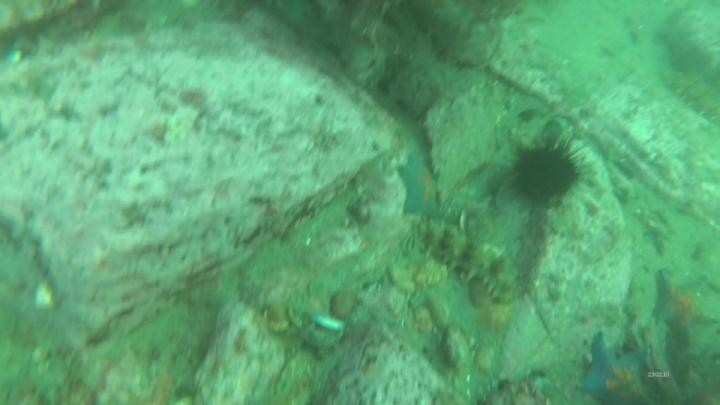echinus: (520, 150, 576, 200)
holothurian: (421, 223, 518, 303), (663, 72, 720, 124)
starfish: (576, 335, 651, 405), (651, 272, 718, 334), (400, 159, 441, 219)
